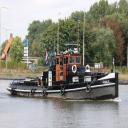tugboat: (7, 44, 121, 104)
